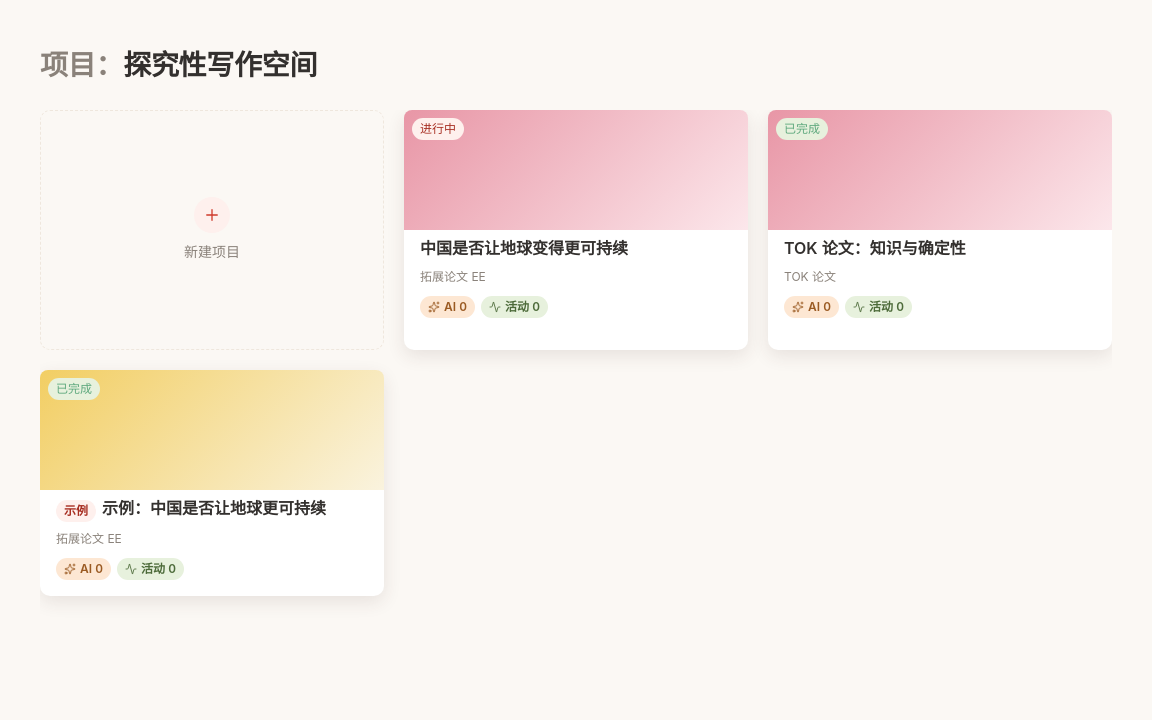
Directory › shared demo project (Task 9) › a manual click on the demo card opens the guard modal instead of the studio
Click the text "示例：中国是否让地球更可持续": (214, 508) [102,498,326,518]
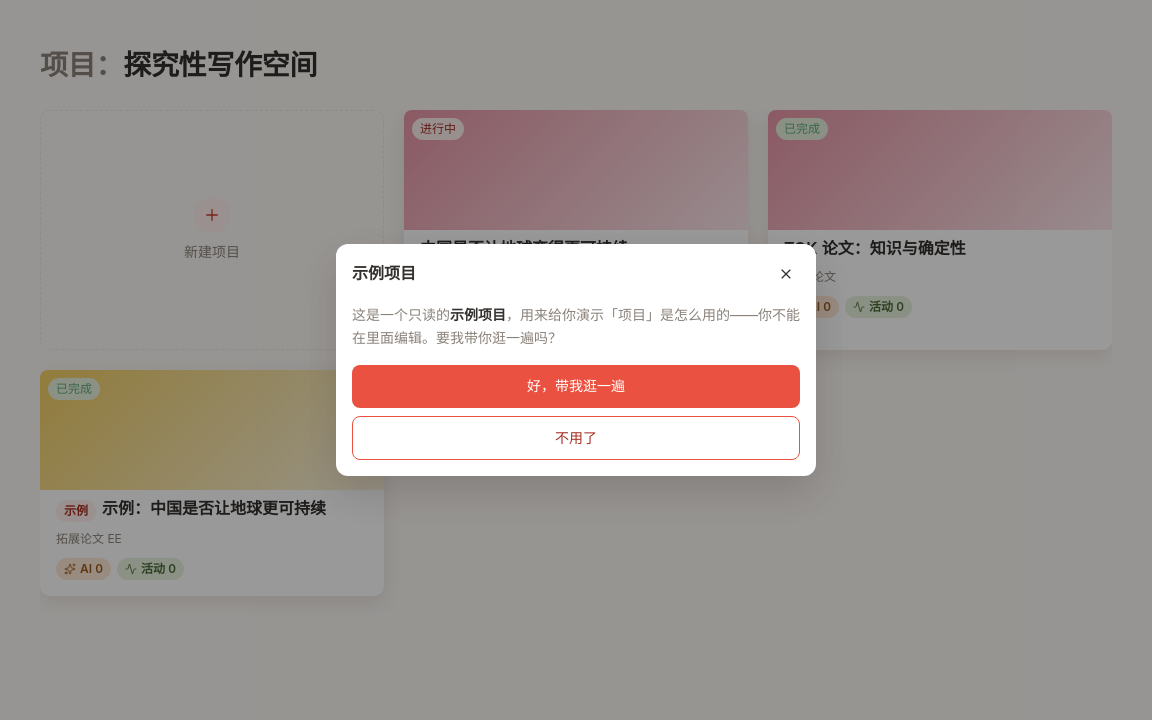
Check: the heading "示例项目" is shown, box [352,263,416,285]
